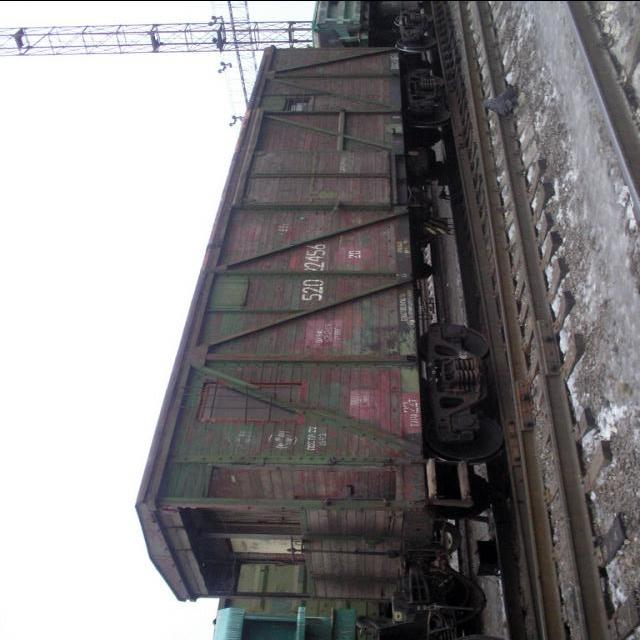wagon: (298, 240, 328, 302)
